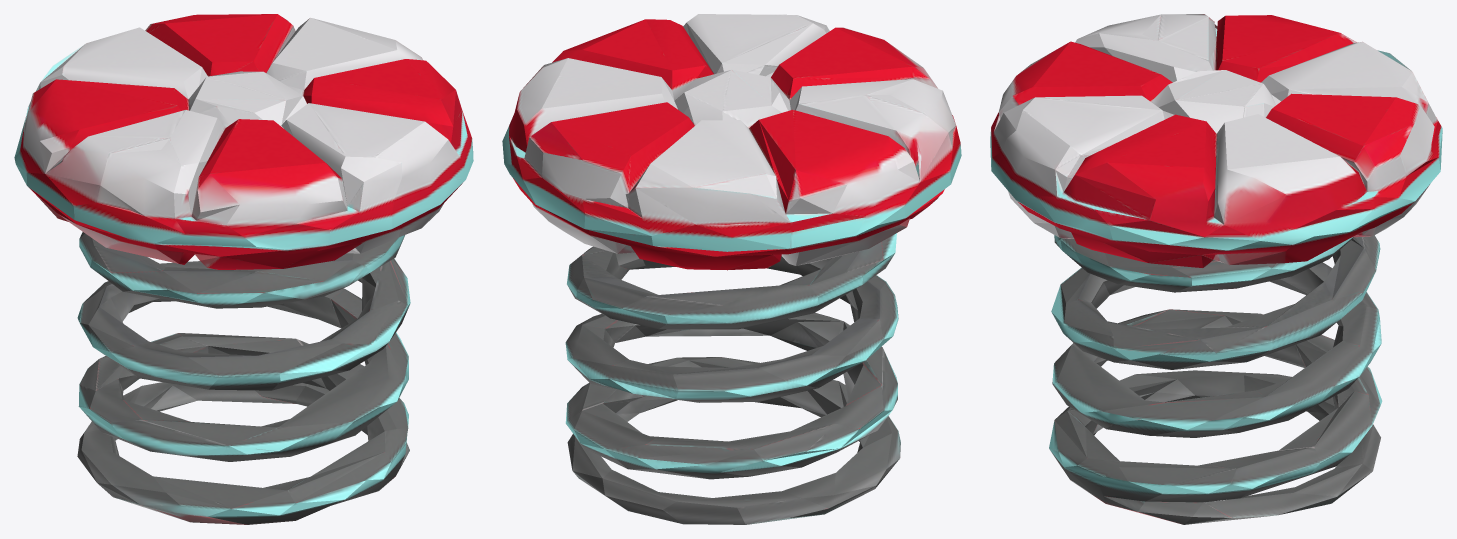
File: spring.glb
The picture shows the model from 3 angles, left to right: view 1: azimuth 30°, elevation 25°; view 2: azimuth 150°, elevation 25°; view 3: azimuth 270°, elevation 25°; orthographic projection.
Size of the model in its own units: 1.87 by 1.69 by 1.88.
1 material, 1 textured.
